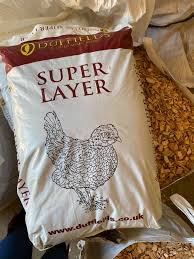feed_bag: (1, 18, 173, 248)
